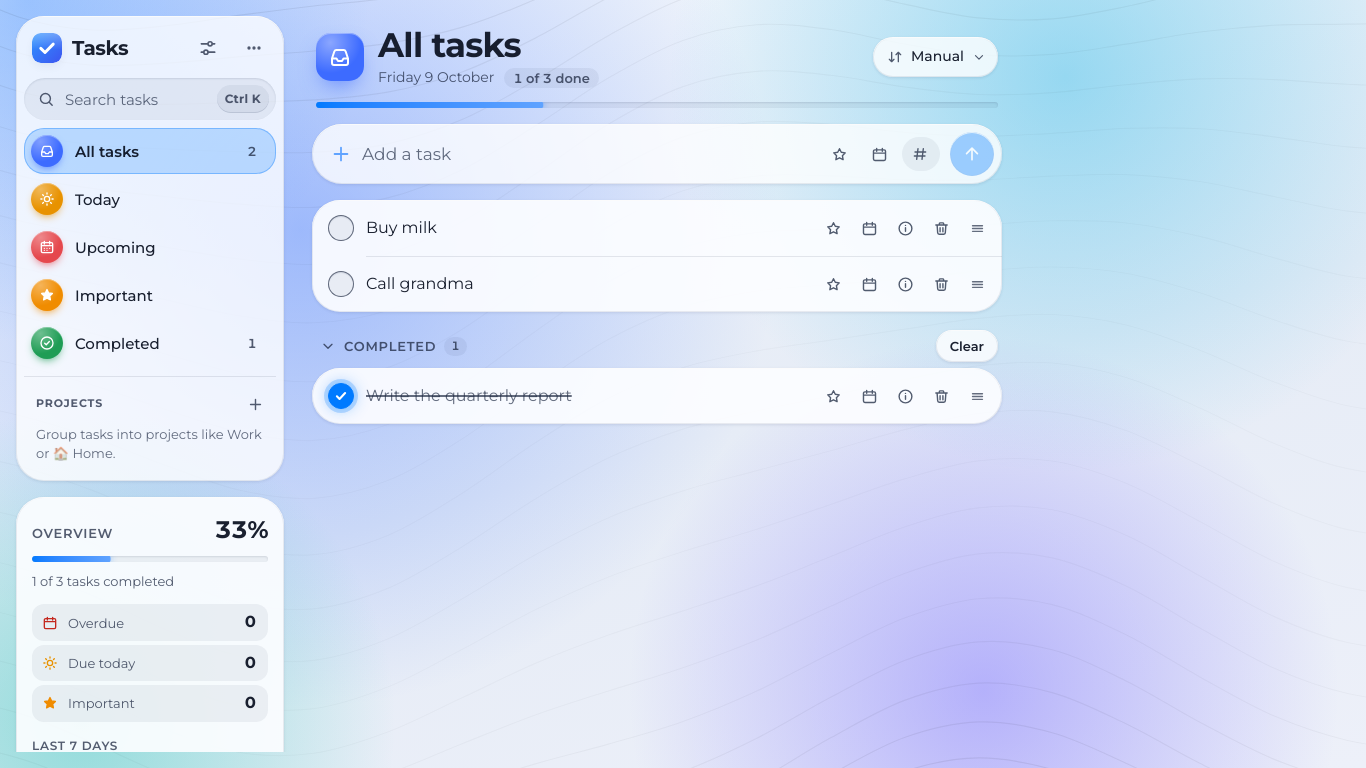
Test: App shell › changes the appearance, accent, background and glass
Click the button named "Settings" at [208, 48], box [186,26,230,70]
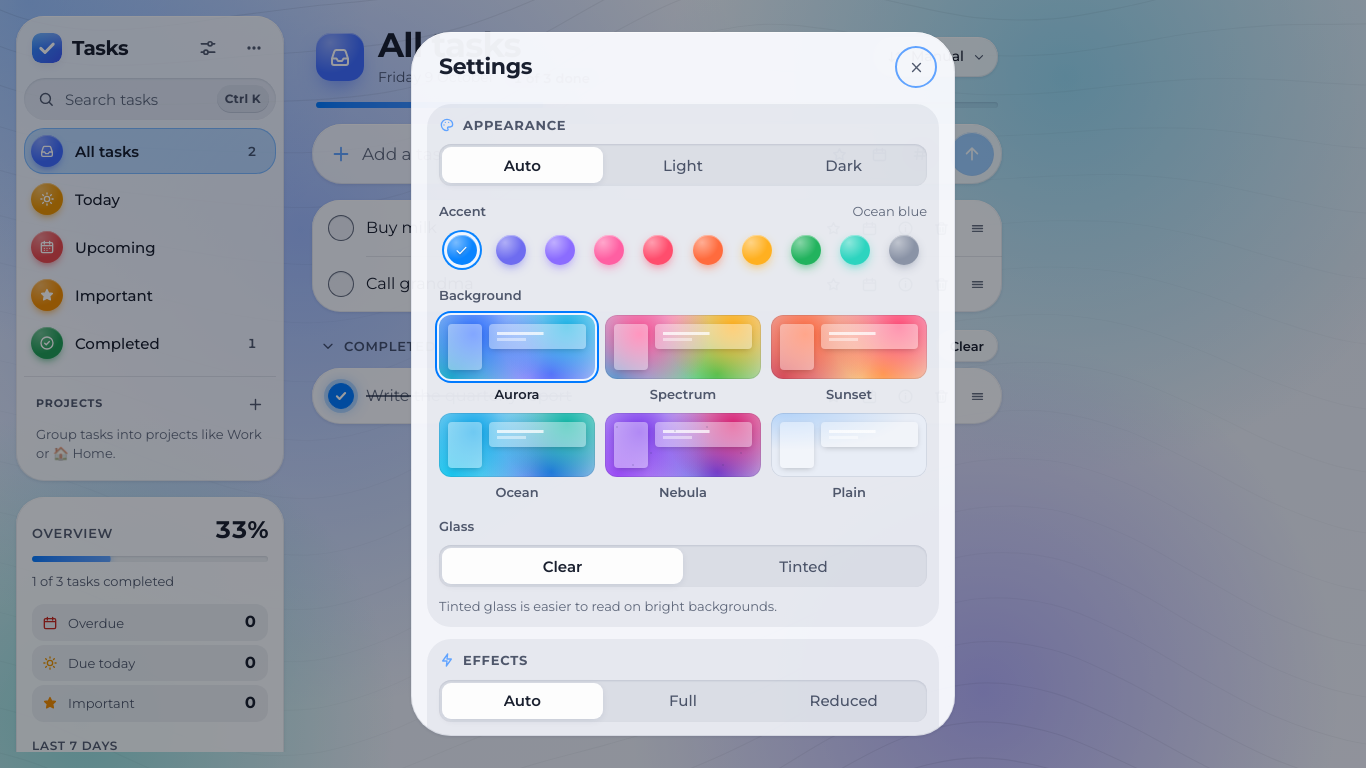
Click the 1st radio button labelled "Light" at [683, 165], box [663,156,703,175]
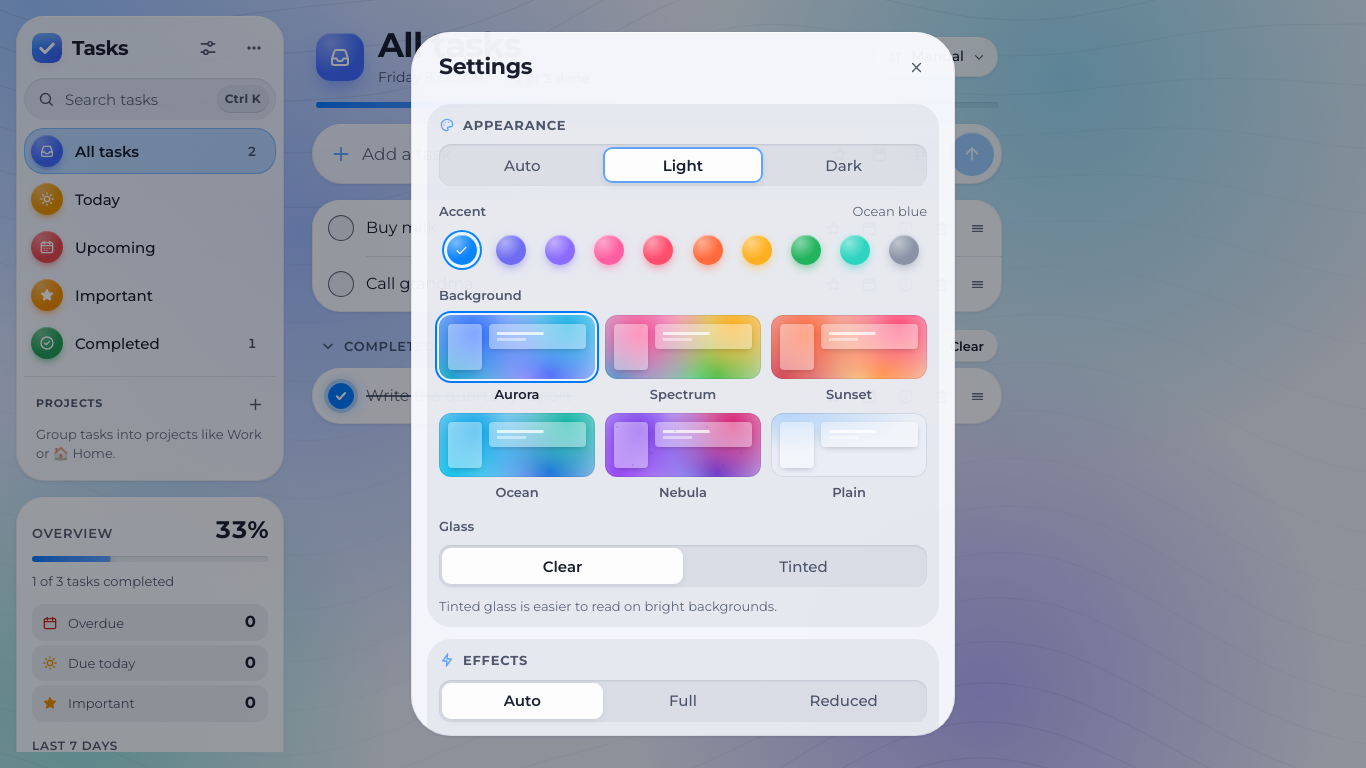
Click the radio button named "Forest" at [806, 250], box [791,235,821,265]
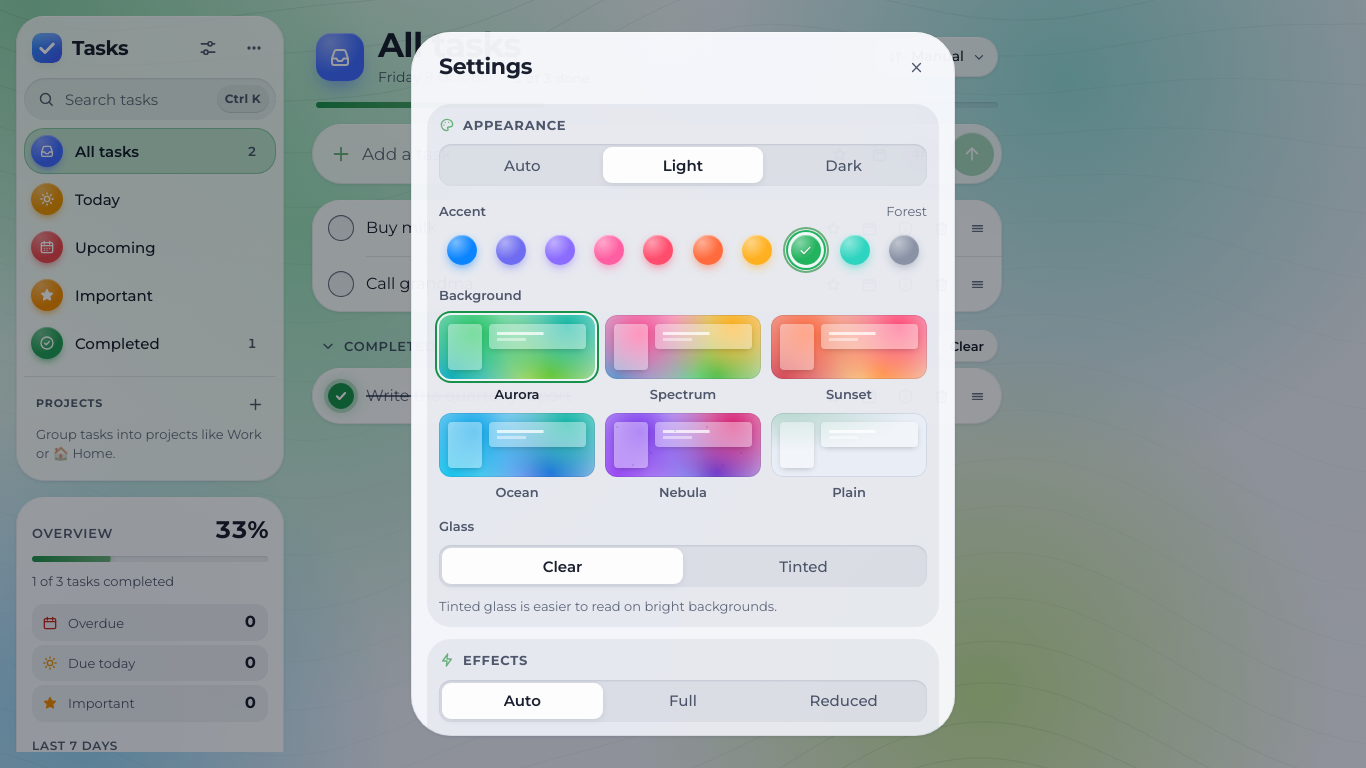
Click the 11th radio button labelled "Nebula" at [683, 457], box [605,413,761,501]
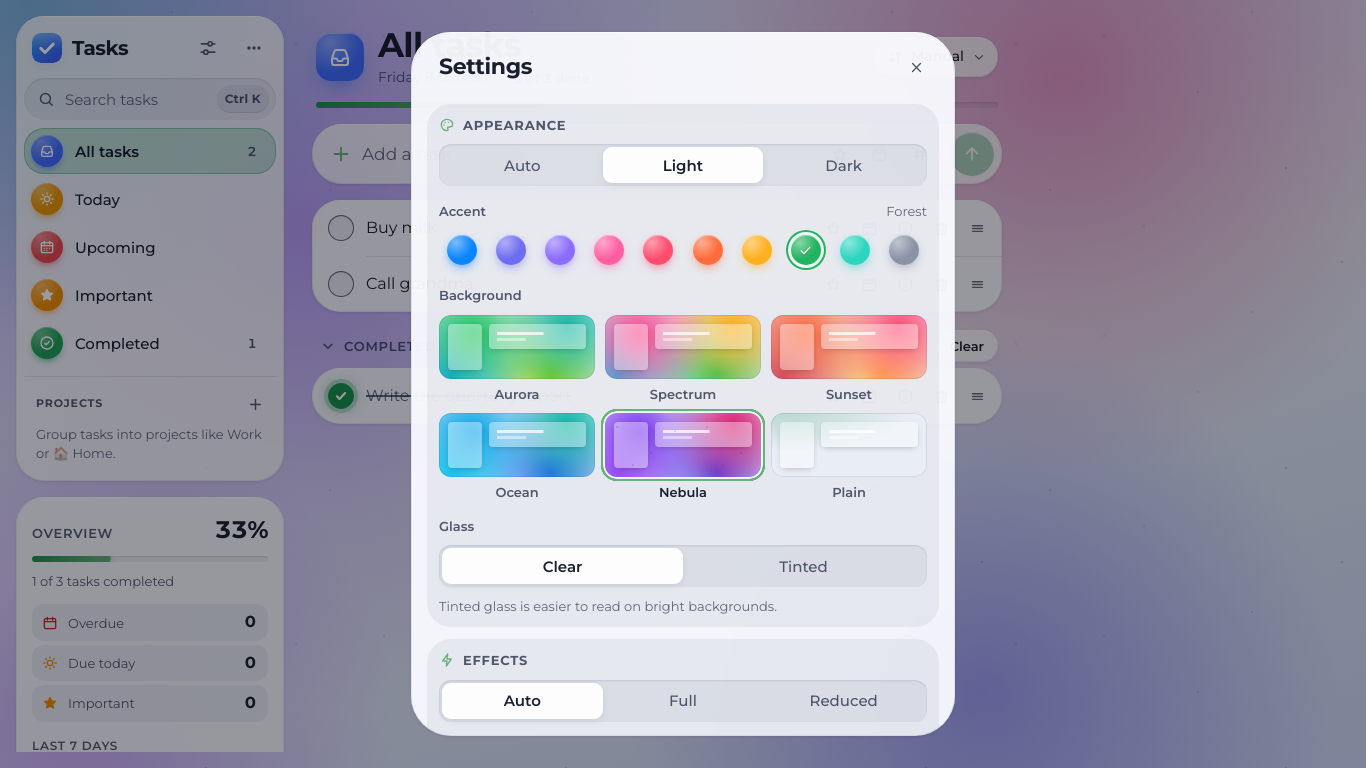
Click the 11th radio button labelled "Tinted" at [804, 566], box [779,557,828,576]
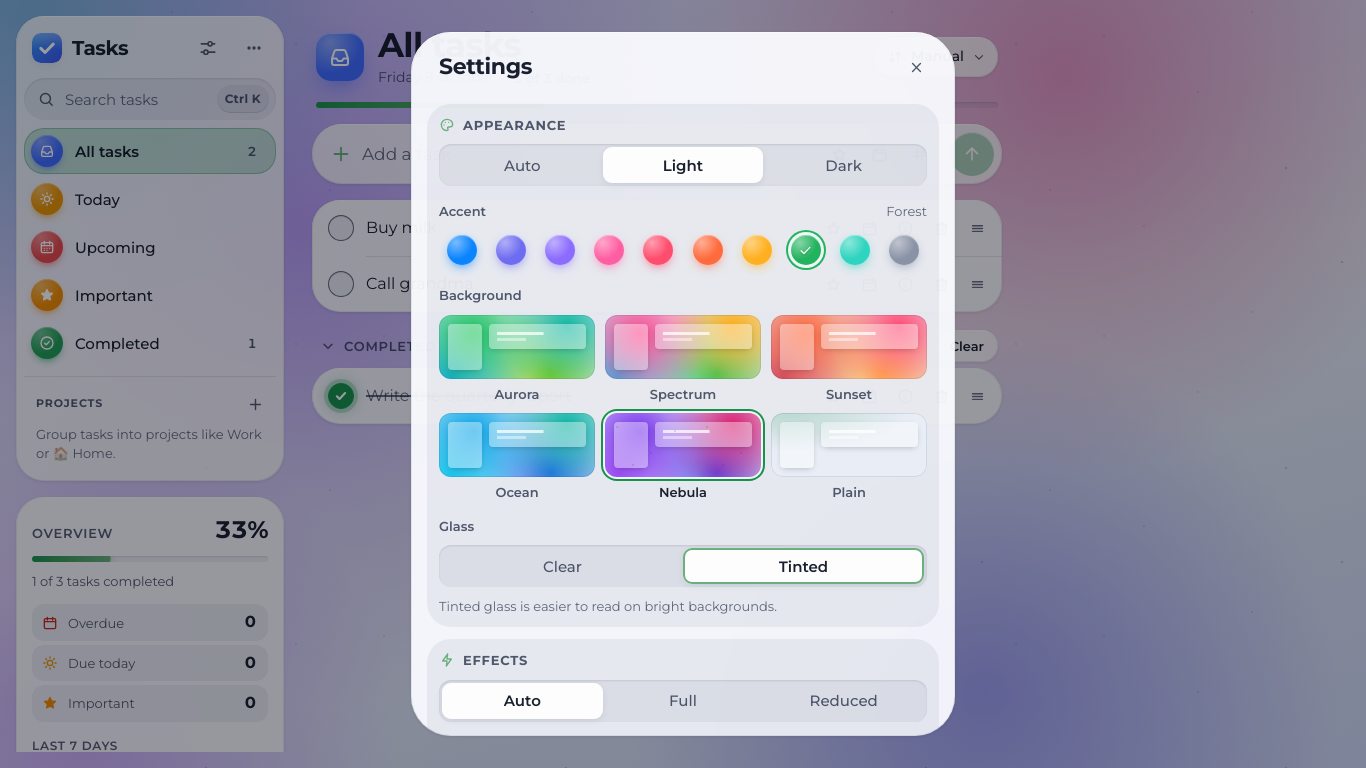
Click the button named "Close" at [916, 67], box [899,50,933,84]
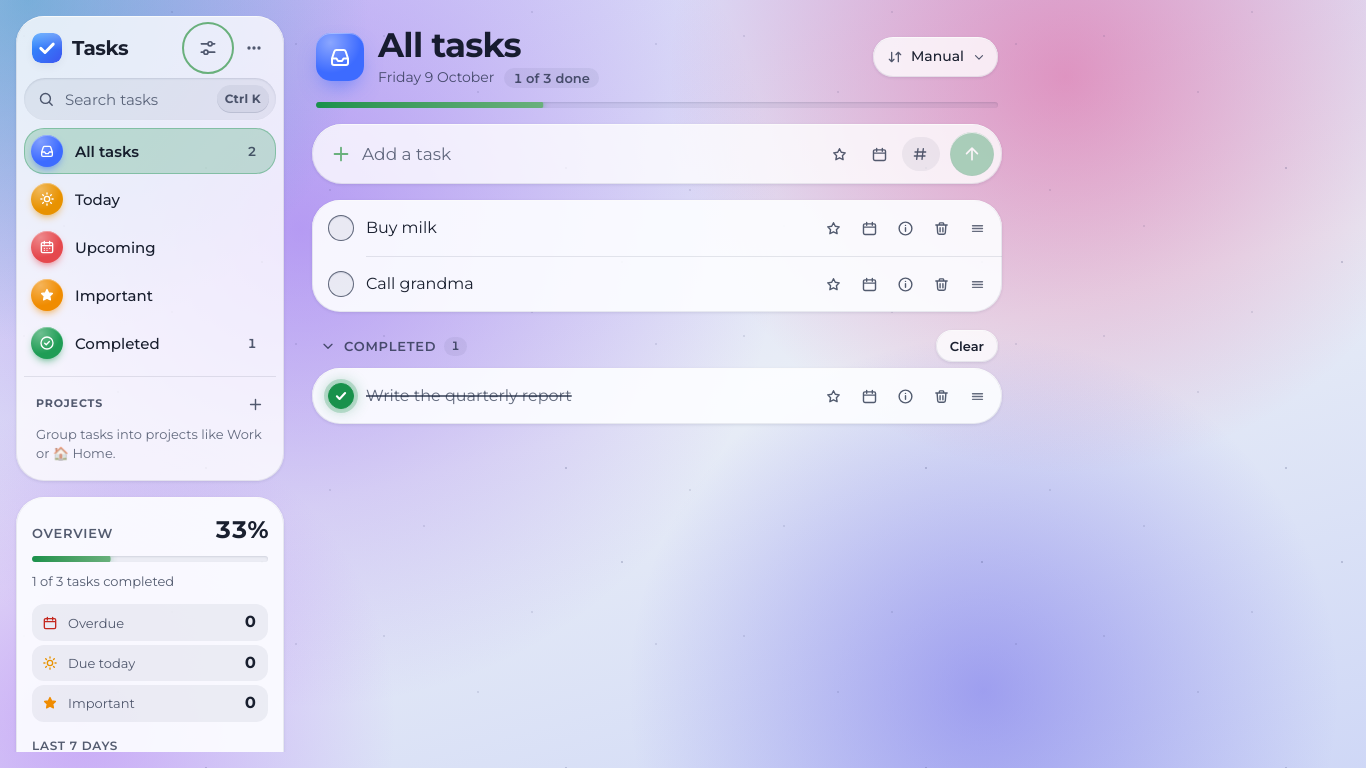
Expected: the heading "Settings" is gone
